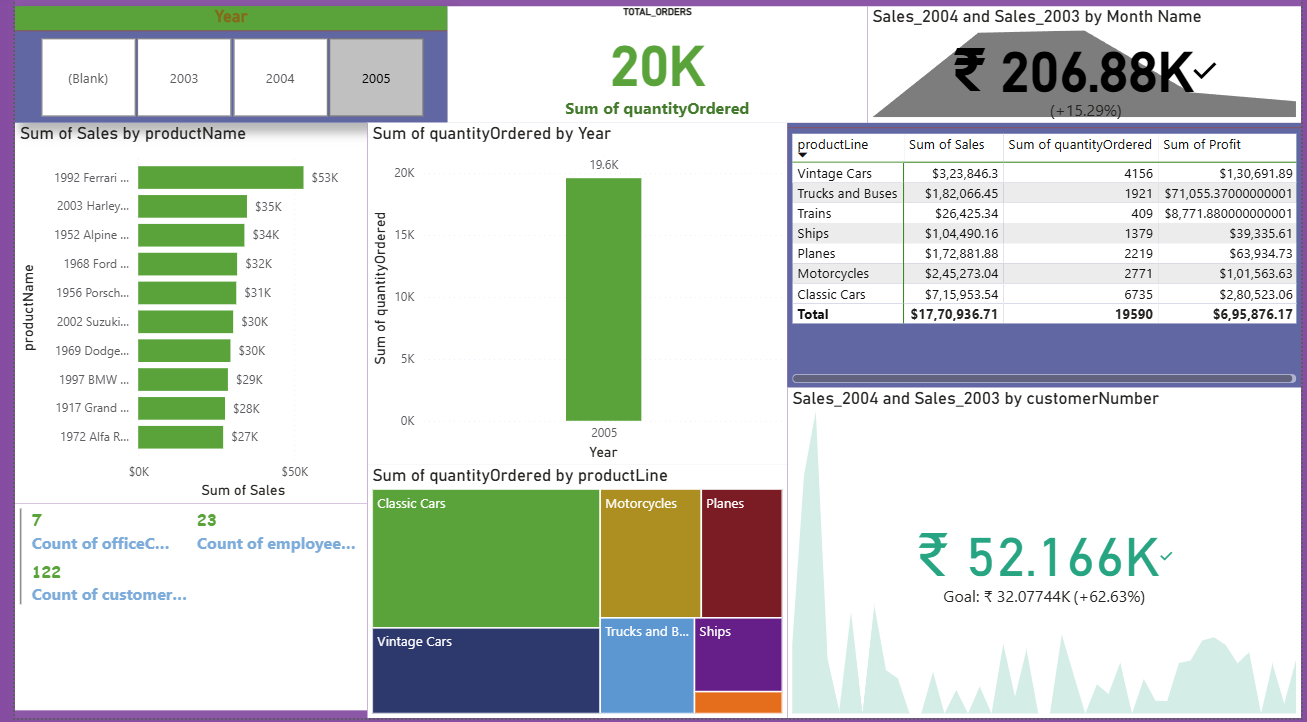

Layout of this report page (visuals, bound fields, positions):
{"tool":"powerbi","page":{"name":"Page 1","canvas":[1280,720],"ordinal":0},"visuals":[{"type":"barChart","fields":{"Category":["products.productName"],"Y":["Sum(order detailers.Sales)"]},"box":[0,126.9,350.8,379.4],"z":0},{"type":"pivotTable","fields":{"Rows":["productlines.productLine"],"Values":["Sum(order detailers.Sales)","Sum(order detailers.quantityOrdered)","Sum(order detailers.Profit)"]},"box":[768.8,126.9,511.3,263.7],"z":1000},{"type":"slicer","title":"Year","fields":{"Values":["orders.Year"]},"box":[0,11.2,430.4,115.7],"z":2000},{"type":"card","title":"TOTAL_ORDERS","fields":{"Values":["Sum(order detailers.quantityOrdered)"]},"box":[430.4,11.2,418,115.7],"z":3000},{"type":"multiRowCard","fields":{"Values":["Offices.officeCode","employes.employeeNumber","Customers.customerNumber"]},"box":[0,506.3,350.8,205.3],"z":4000},{"type":"kpi","fields":{"TrendLine":["orders.Month Name"],"Indicator":["order detailers.Sales_2004"],"Goal":["order detailers.Sales_2003"]},"box":[848.4,11.2,431.7,115.7],"z":5000},{"type":"treemap","fields":{"Group":["productlines.productLine"],"Values":["Sum(order detailers.quantityOrdered)"]},"box":[350.8,467.7,418,252.5],"z":6000},{"type":"columnChart","fields":{"Category":["orders.Year"],"Y":["Sum(order detailers.quantityOrdered)"]},"box":[350.8,126.9,418,340.8],"z":7000},{"type":"kpi","fields":{"Indicator":["order detailers.Sales_2004"],"Goal":["order detailers.Sales_2003"],"TrendLine":["orders.customerNumber"]},"box":[768.8,390.6,511.3,329.6],"z":8000}]}

Visuals, with their boxes in screenshot pixels (x1, y1, x2, y2), scaled from the page's 1280x720 canvas onto the 1307x722 screenshot:
barChart - products.productName x Sum(order detailers.Sales): x1=0, y1=127, x2=358, y2=508
pivotTable - productlines.productLine x Sum(order detailers.Sales): x1=785, y1=127, x2=1306, y2=392
"Year" slicer: x1=0, y1=11, x2=439, y2=127
"TOTAL_ORDERS" card: x1=439, y1=11, x2=866, y2=127
multiRowCard - Offices.officeCode x employes.employeeNumber: x1=0, y1=508, x2=358, y2=714
kpi - orders.Month Name x order detailers.Sales_2004: x1=866, y1=11, x2=1306, y2=127
treemap - productlines.productLine x Sum(order detailers.quantityOrdered): x1=358, y1=469, x2=785, y2=721
columnChart - orders.Year x Sum(order detailers.quantityOrdered): x1=358, y1=127, x2=785, y2=469
kpi - order detailers.Sales_2004 x order detailers.Sales_2003: x1=785, y1=392, x2=1306, y2=721
